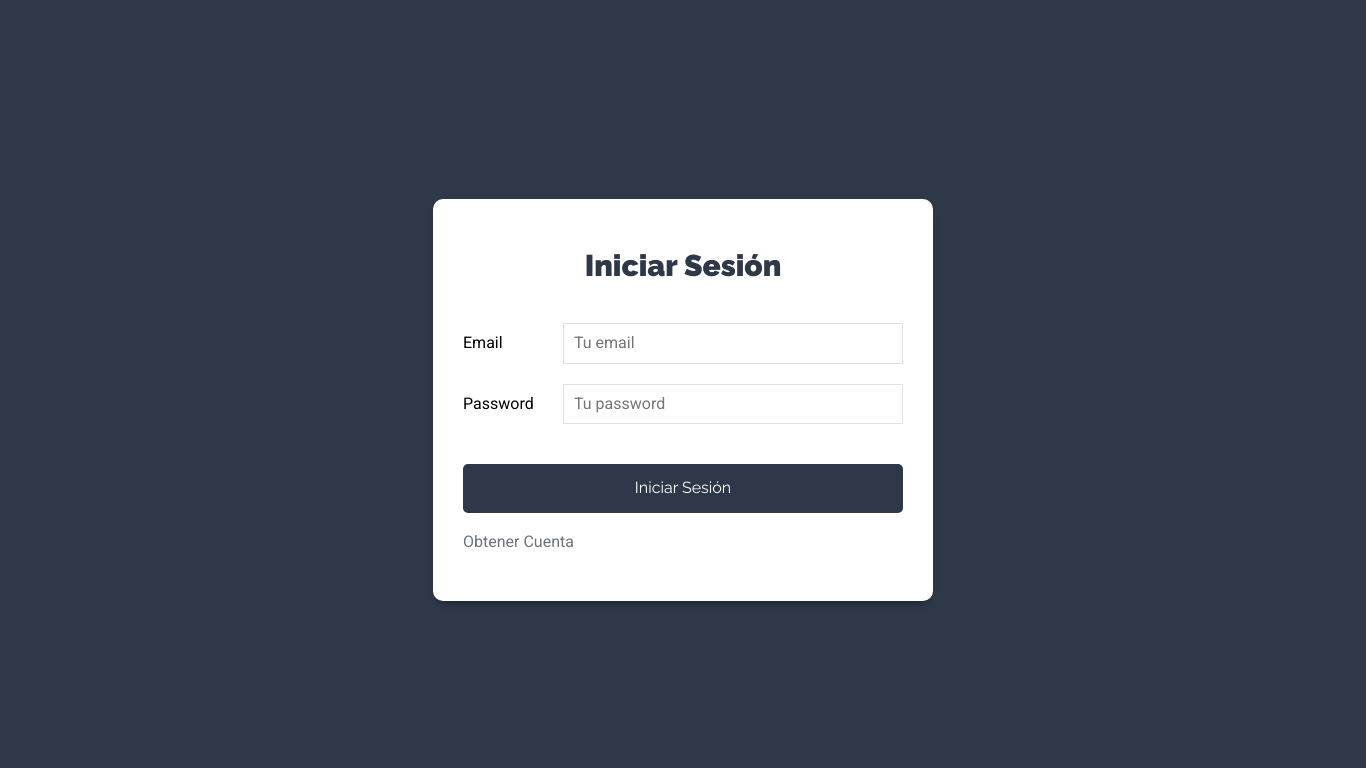
Test: Proyectos › <Login /> - Autenticar usuario
In the field with test id "email": (733, 344) top-left (563, 324), bottom-right (903, 364), type "lea.arturi@gmail.com"
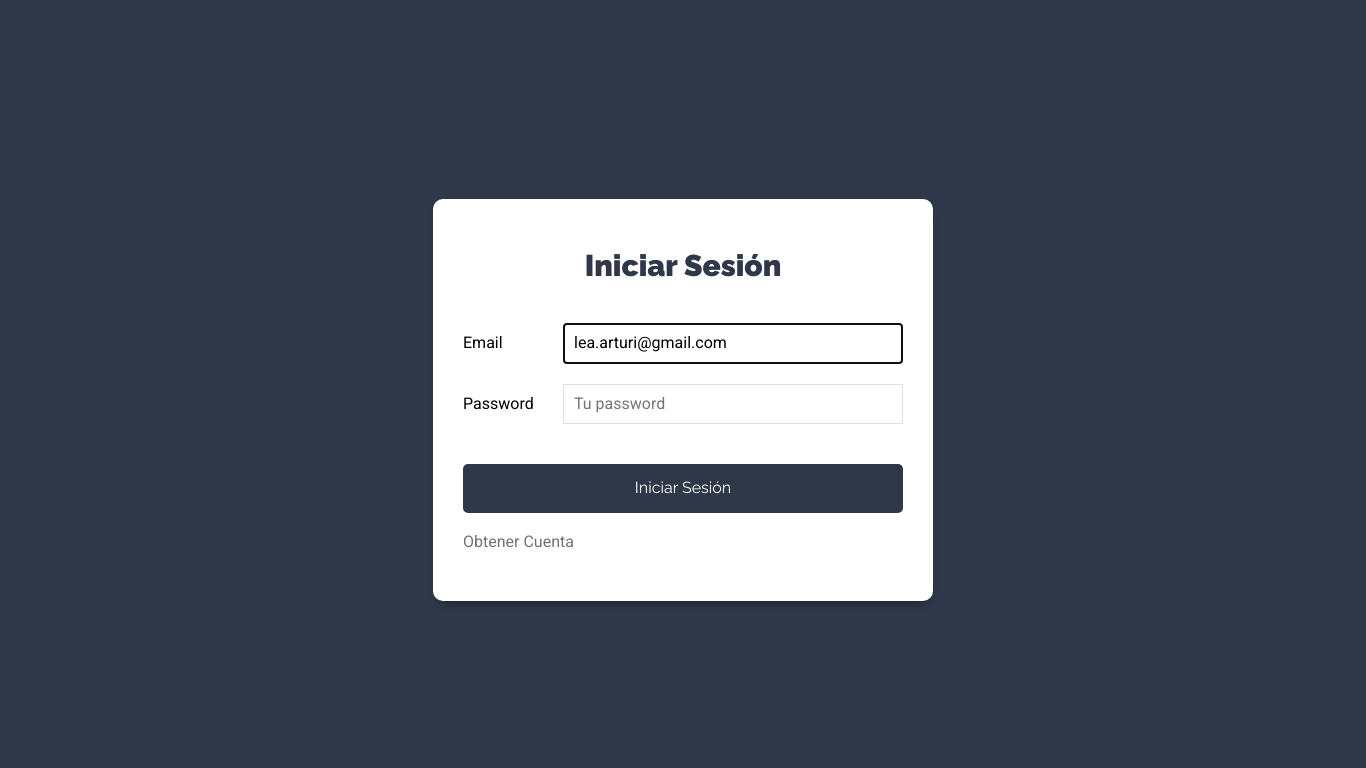
In the password field with test id "password": (733, 404) top-left (563, 384), bottom-right (903, 424), type "123123"
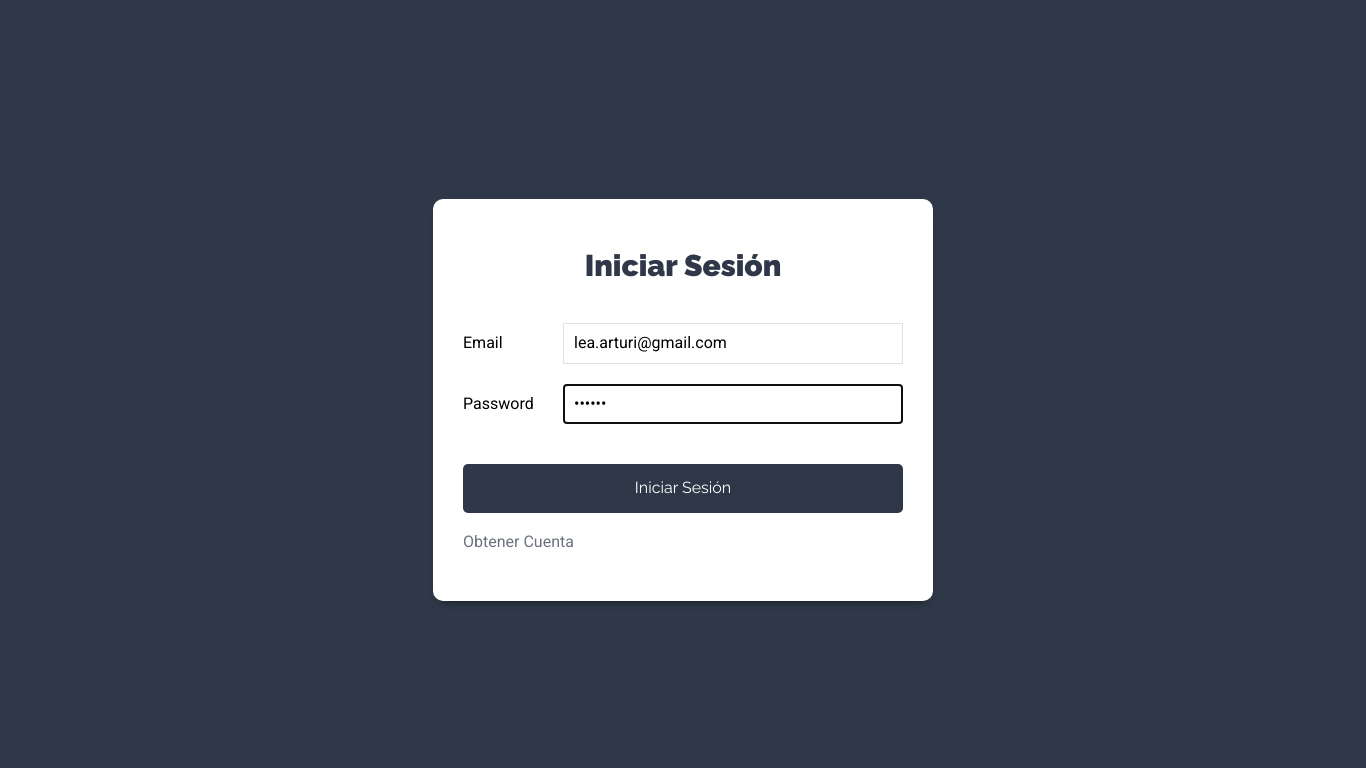
Click the button with test id "submit": (683, 488) top-left (463, 464), bottom-right (903, 512)
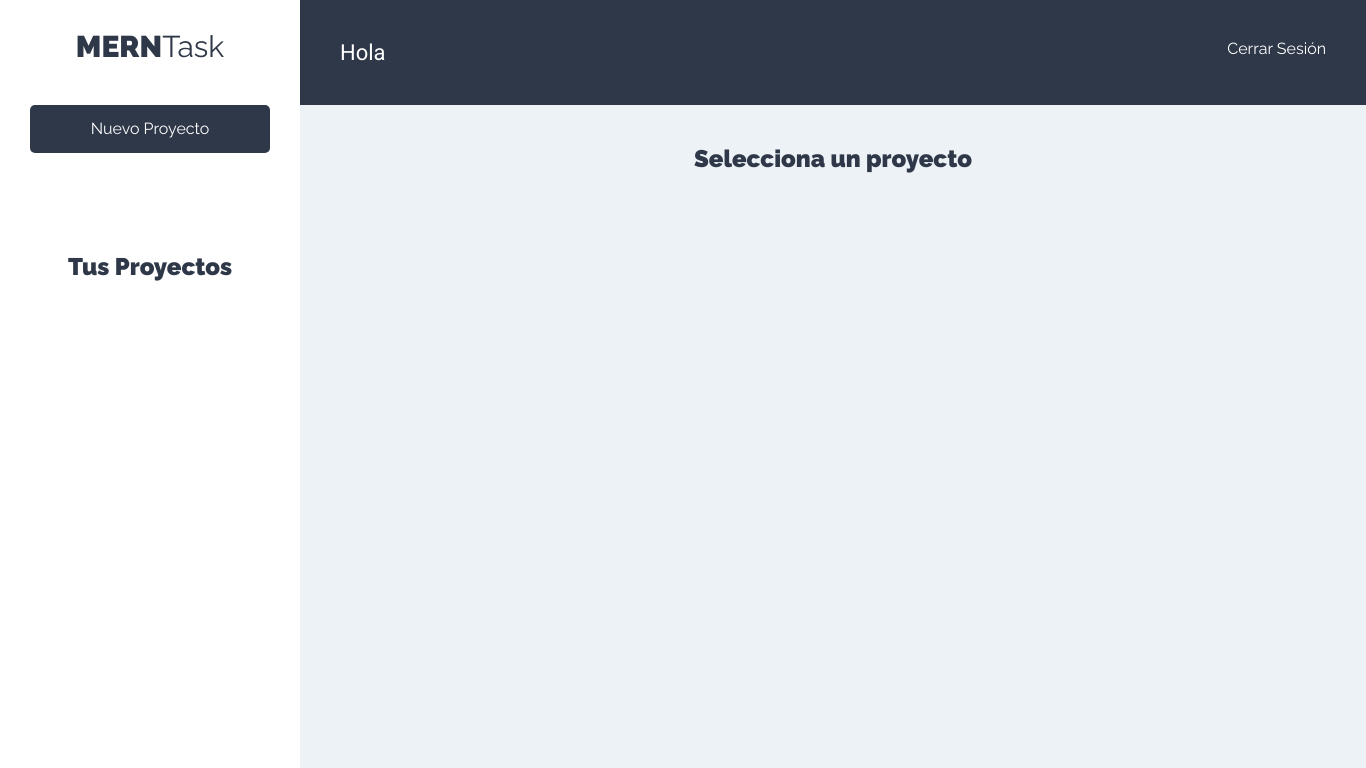
Check: the heading with test id "seleccionaProyecto" reads "Selecciona un proyecto", box top-left (694, 144), bottom-right (972, 173)
